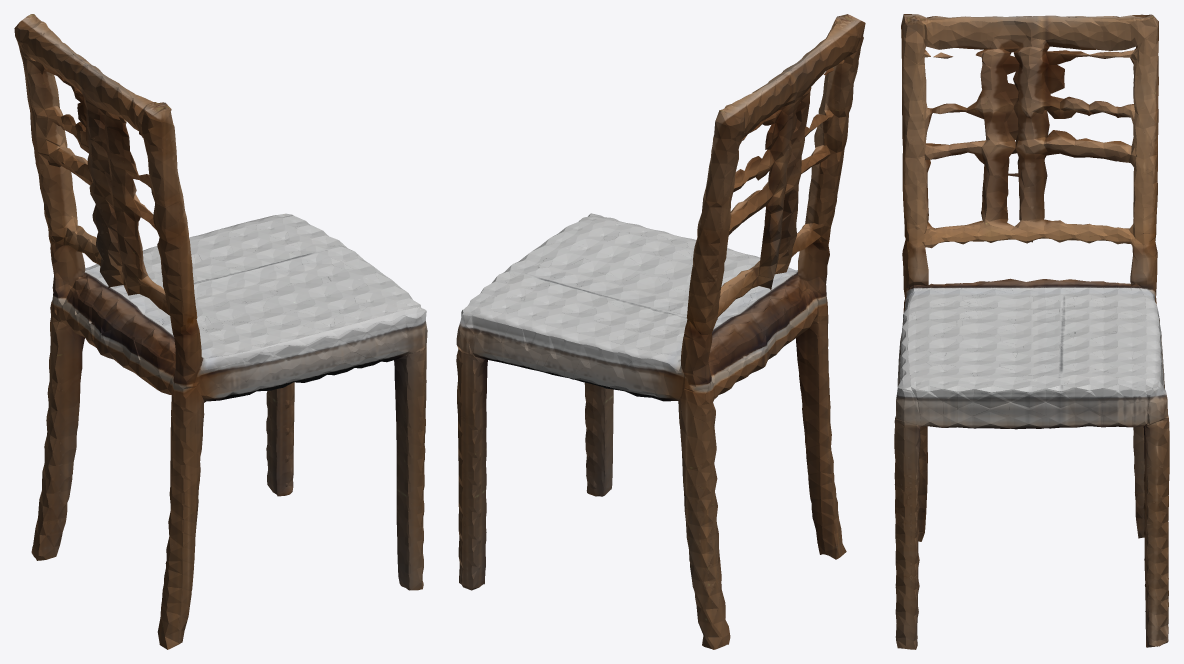
The model's file is elem_94_131_206_213_5_2.obj.
The picture shows the model from 3 angles, left to right: view 1: azimuth 30°, elevation 25°; view 2: azimuth 150°, elevation 25°; view 3: azimuth 270°, elevation 25°; orthographic projection. The views are drawn at different scales.
Bounding box in the file's own units: 0.393 × 0.7094 × 0.3427.
Materials: 1 (1 with a texture image).
